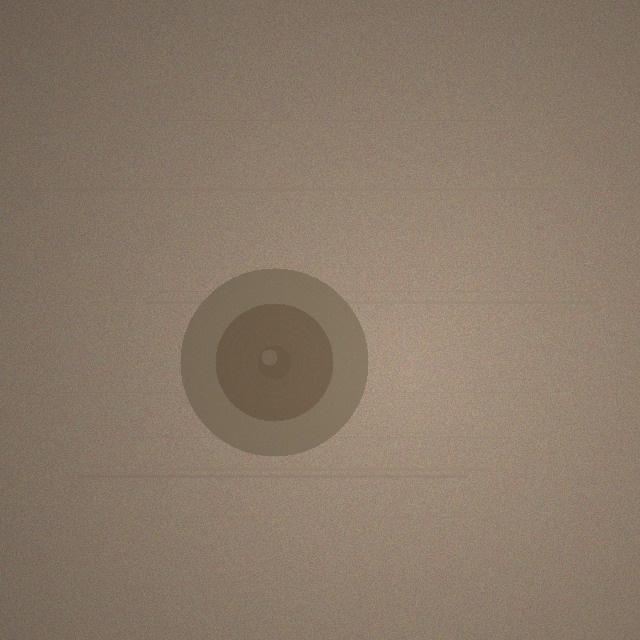good: (180, 268, 368, 456)
